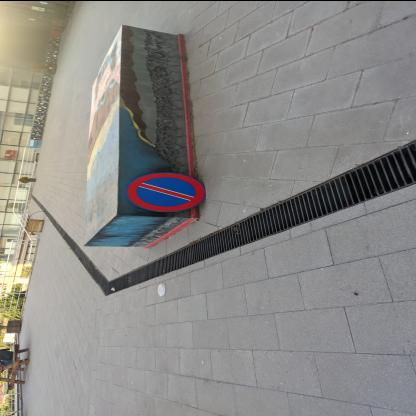No Waiting: (127, 172, 207, 212)
